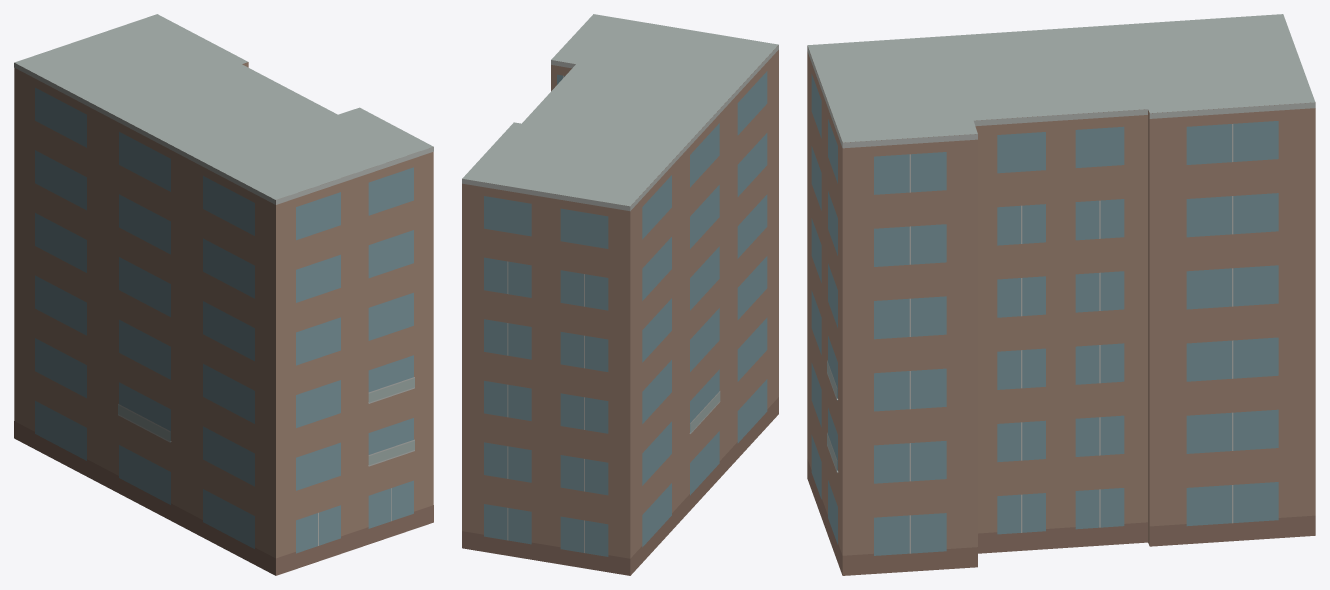
File: survey-upis-32574336.glb
3 views of the same model, side by side, from view 1: azimuth 30°, elevation 25°; view 2: azimuth 150°, elevation 25°; view 3: azimuth 270°, elevation 25° (orthographic). The views are drawn at different scales.
Parts seen in each view (by area): view 1: survey-upis-32574336.tmp; view 2: survey-upis-32574336.tmp; view 3: survey-upis-32574336.tmp.
Part boxes in pixels (bbox=[...]): survey-upis-32574336.tmp: bbox=[14, 14, 433, 575]; survey-upis-32574336.tmp: bbox=[462, 14, 778, 575]; survey-upis-32574336.tmp: bbox=[807, 14, 1315, 575].
Size of the model in its own units: 11.78 by 18.5 by 19.67.
